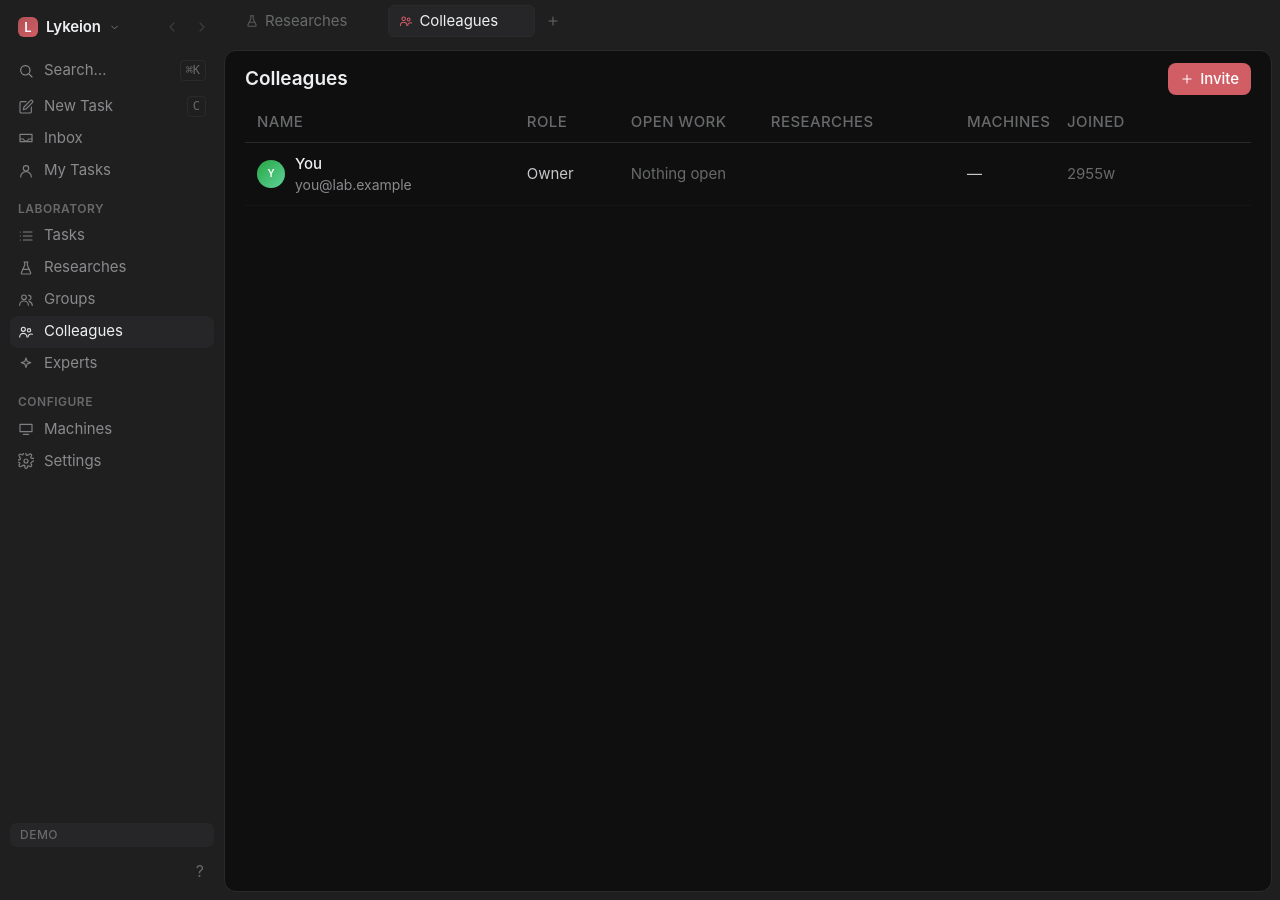
Test: reports a failed mint inside the dialog, where the control that failed is
The width and height of the screenshot is (1280, 900).
Click the link "Colleagues": (112, 332) x1=10 y1=316 x2=214 y2=348
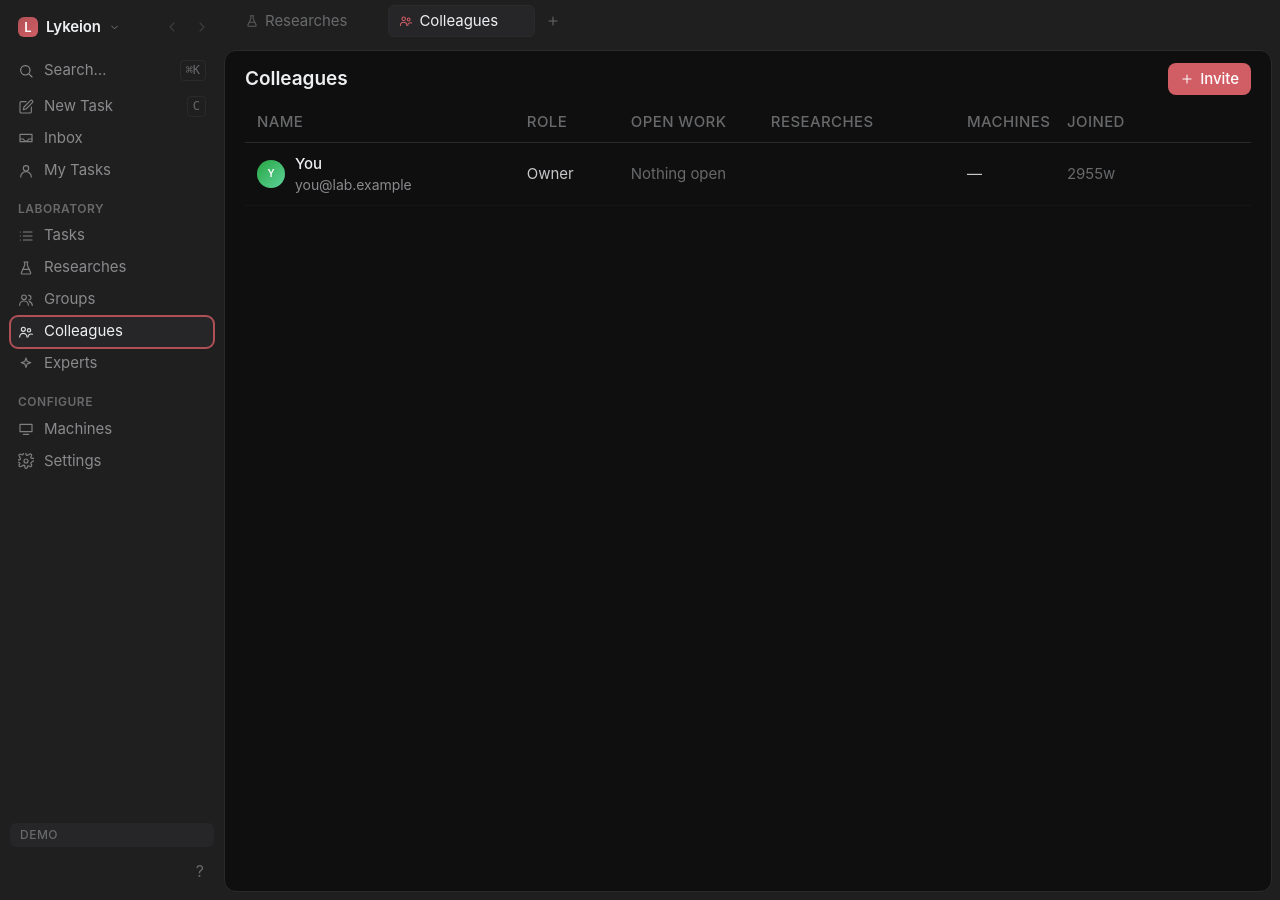
Click the button "Invite": (1210, 79) x1=1168 y1=63 x2=1251 y2=95
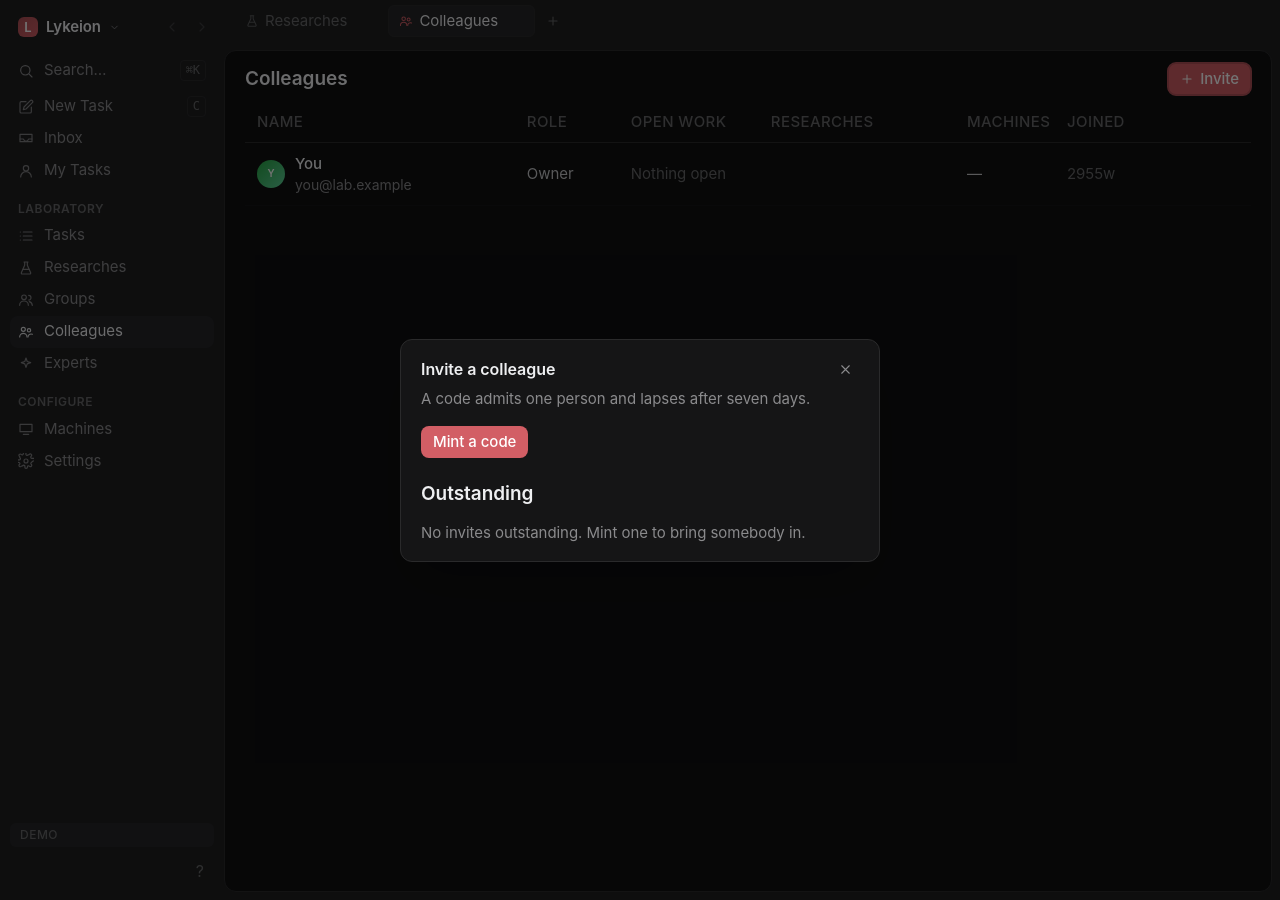
Click the button "Mint a code": (475, 442) x1=421 y1=426 x2=528 y2=458
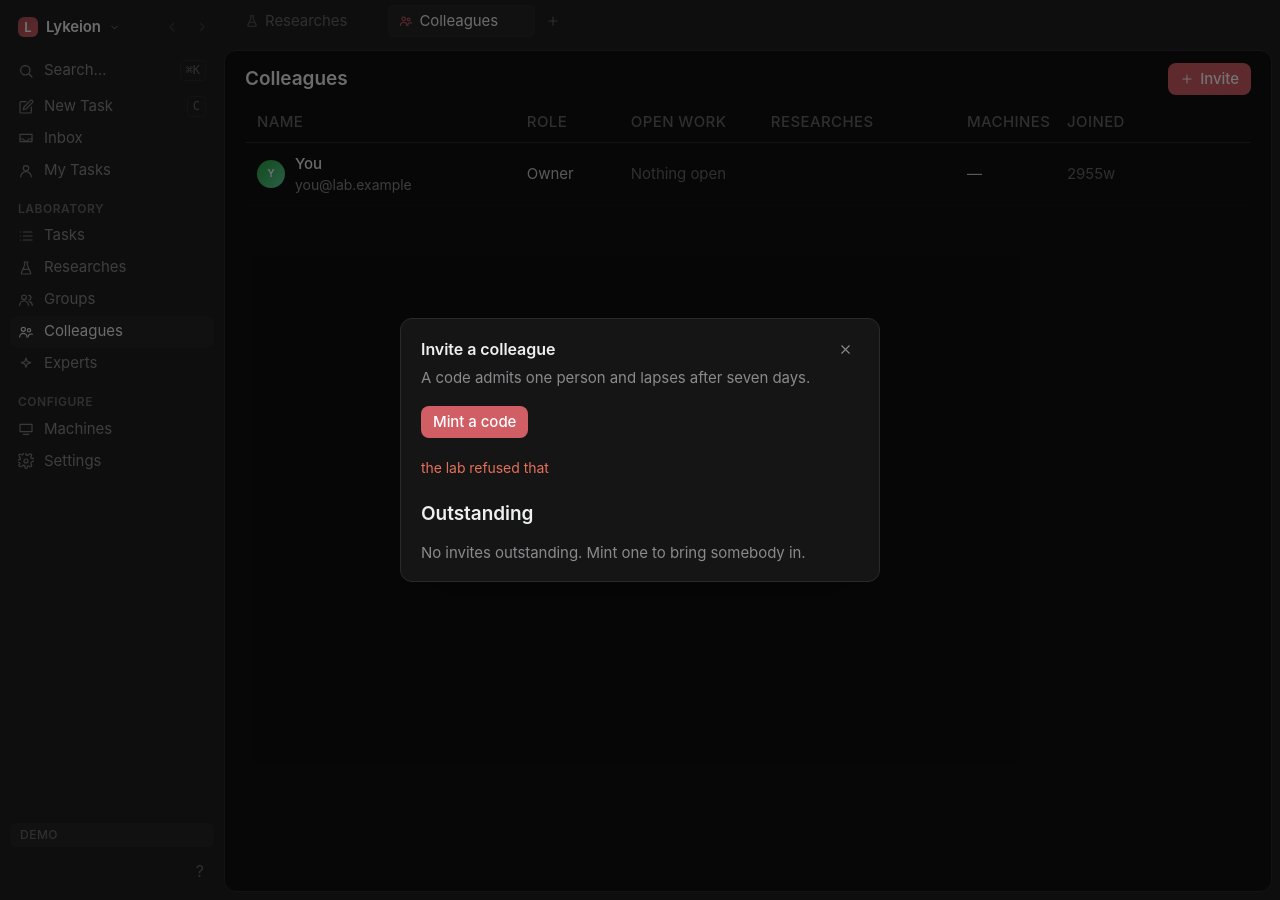
Check: the text "the lab refused that" is shown, box x1=421 y1=459 x2=549 y2=476
Click the button named "Close": (845, 349) x1=831 y1=335 x2=859 y2=363
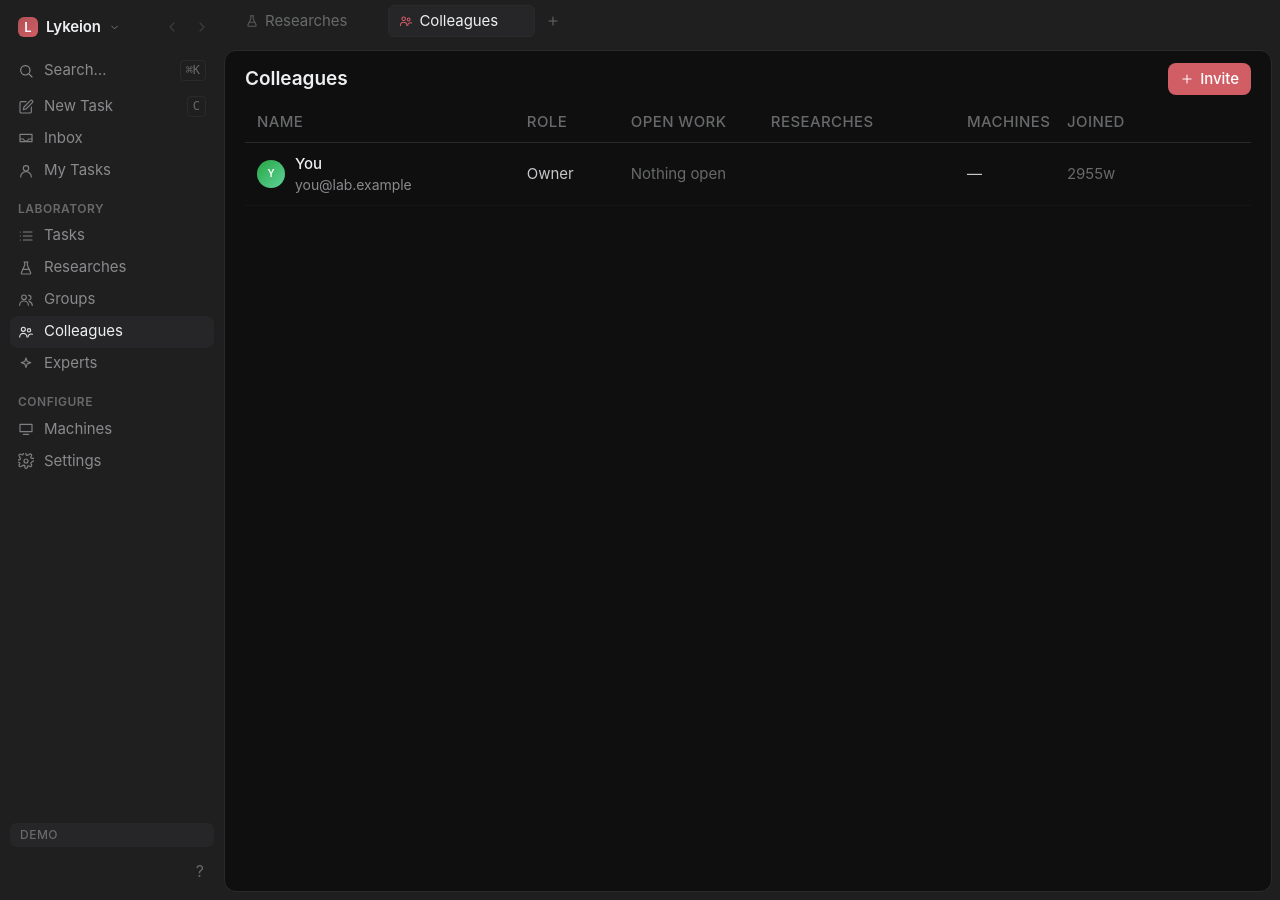
Check: the text "the lab refused that" is gone
